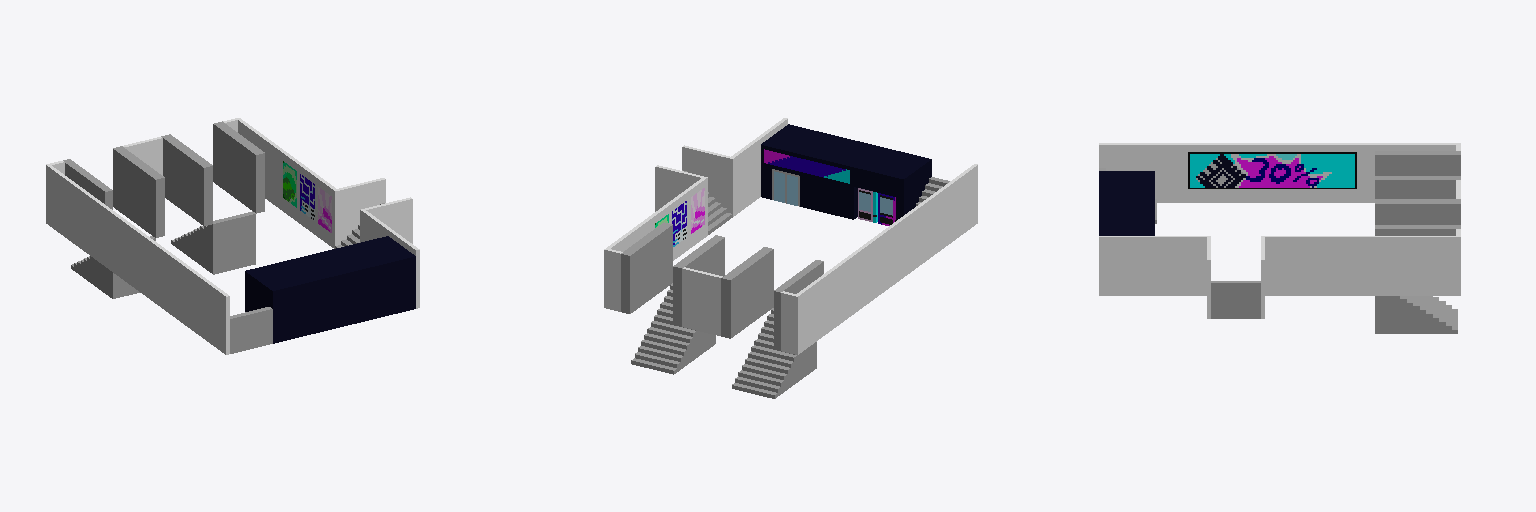
The picture shows the model from 3 angles: view 1: azimuth 30°, elevation 25°; view 2: azimuth 150°, elevation 25°; view 3: azimuth 270°, elevation 25°; orthographic projection.
Visible parts, largest first — view 1: object 1; view 2: object 1; view 3: object 1.
Part boxes in pixels (x1,y1,x2,y2): object 1: (46, 118, 419, 354); object 1: (604, 118, 977, 398); object 1: (1099, 143, 1460, 333).
Size of the model in its own units: 12.9 by 5.6 by 16.8.
Materials: 1 (1 with a texture image).